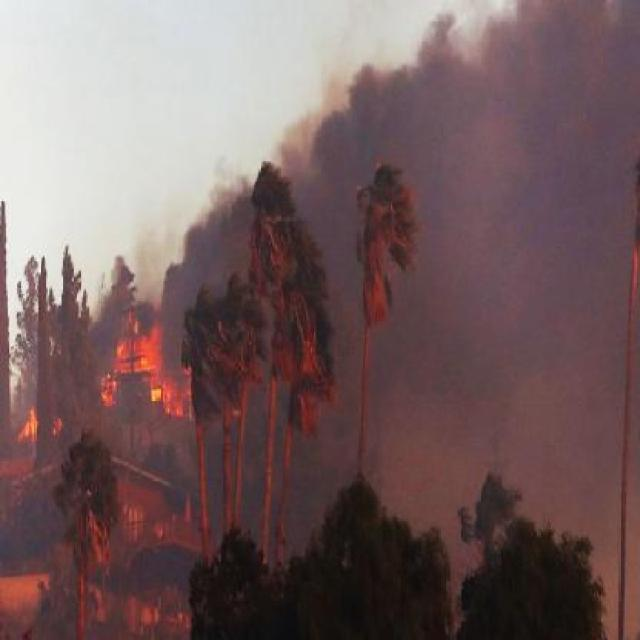Fire: (100, 312, 196, 418), (16, 408, 66, 443)
